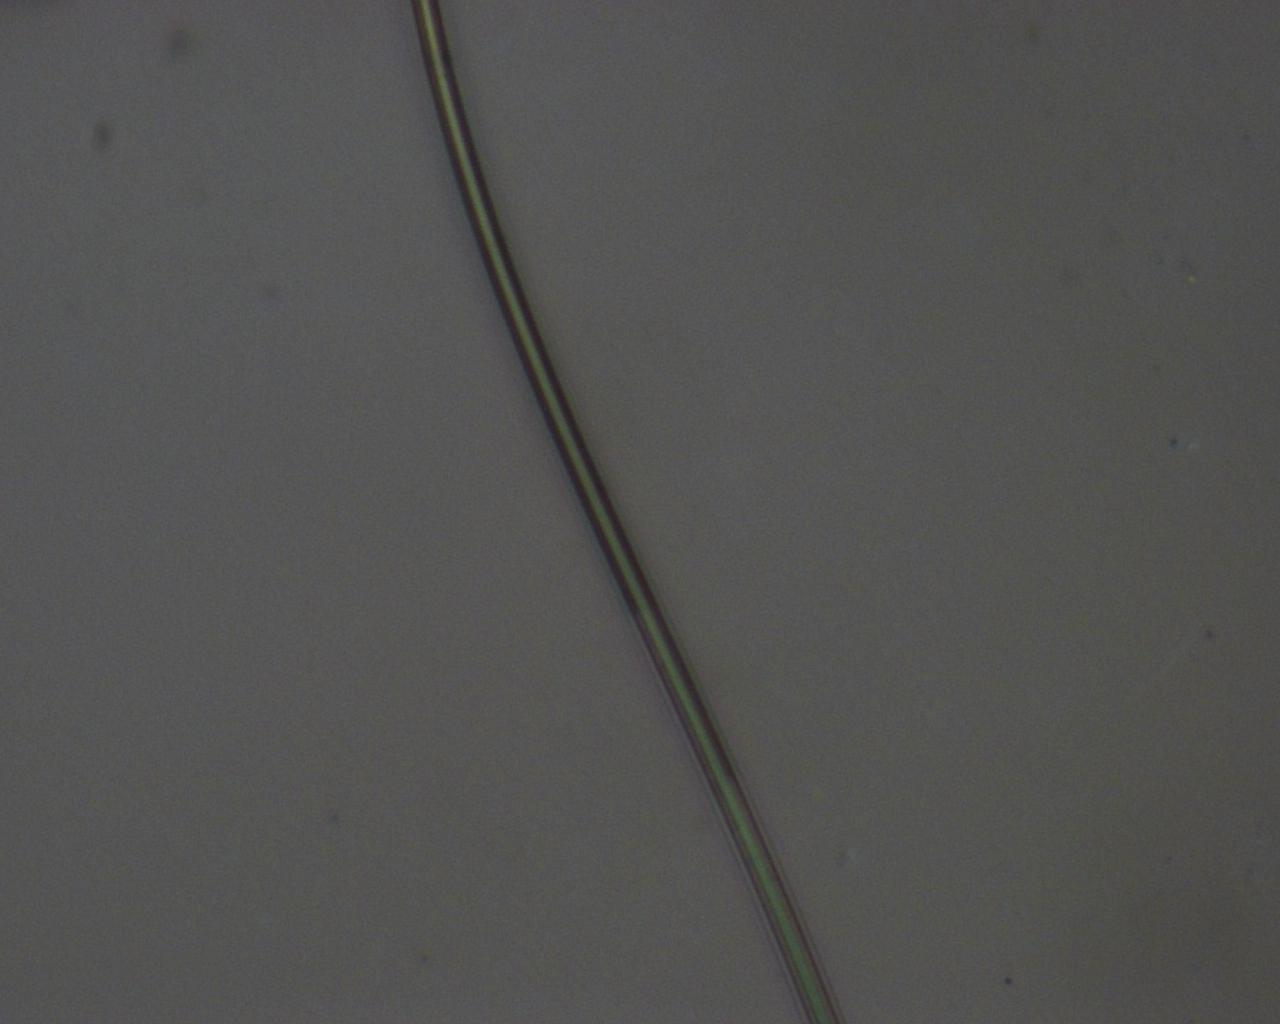fiber: (410, 0, 839, 1024)
